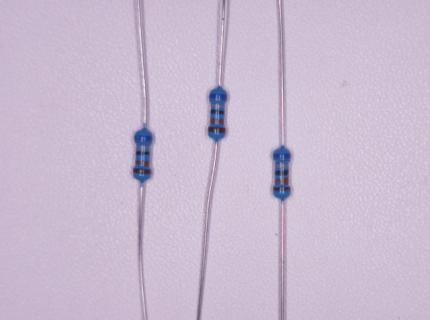Black band: (211, 109, 224, 115), (275, 170, 288, 176), (136, 151, 150, 156)
Blue band: (135, 135, 152, 141), (209, 94, 227, 99), (273, 154, 290, 158)
Brown band: (208, 127, 226, 133), (134, 168, 151, 174), (273, 187, 291, 191)
Grey band: (211, 104, 225, 109), (275, 164, 288, 168), (137, 146, 150, 149)
Orange band: (211, 118, 224, 125), (276, 178, 288, 185), (136, 160, 149, 166)
